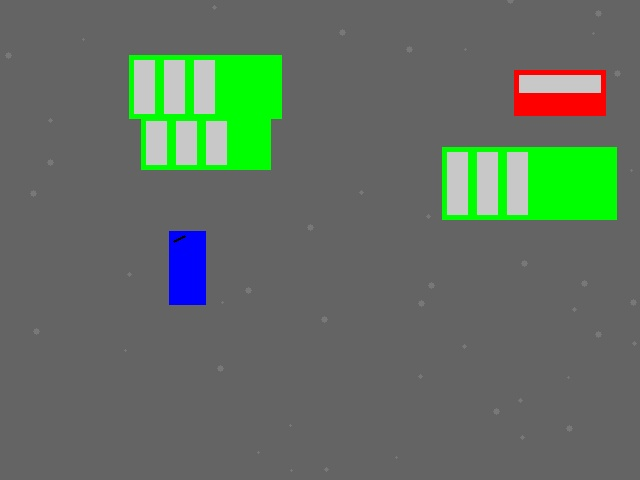bus: (442, 147, 616, 219), (129, 55, 281, 118), (141, 116, 270, 169)
car: (514, 70, 605, 115)
motorcycle: (169, 231, 205, 304)
